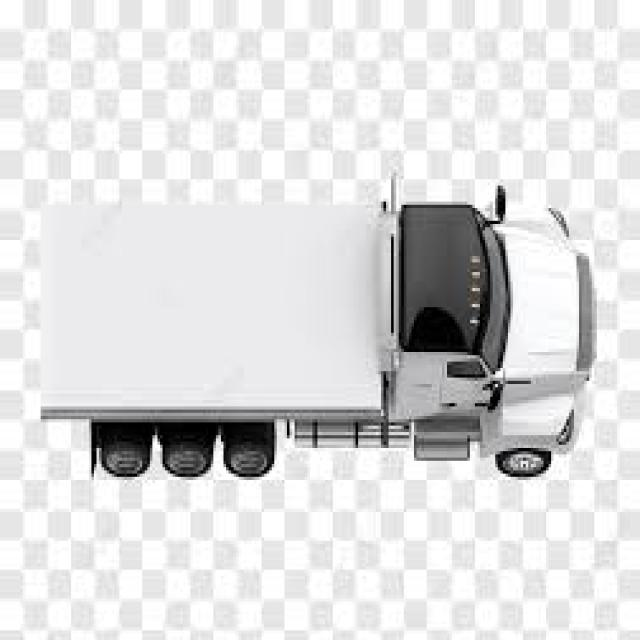truck: (45, 194, 599, 477)
